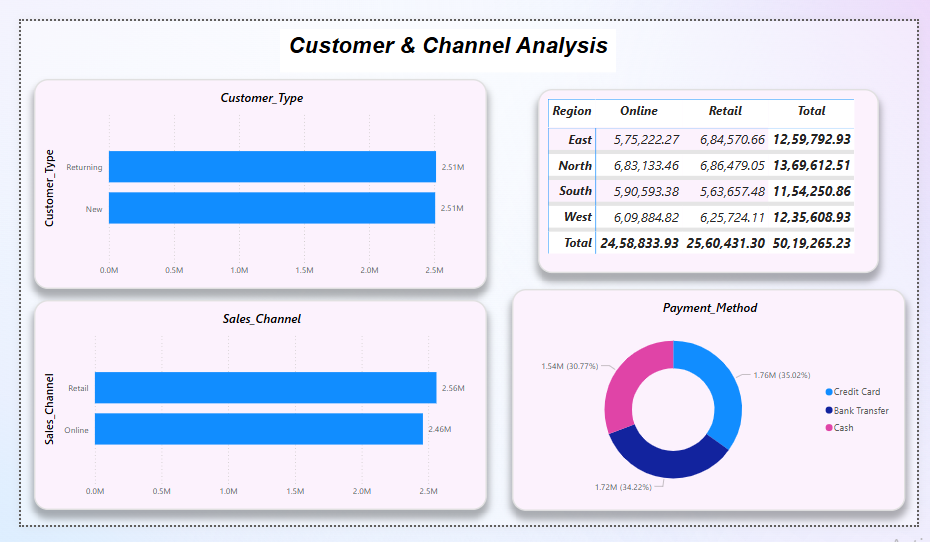

The dashboard page shown, as its layout file describes it:
{"tool":"powerbi","page":{"name":"Customer & Channel Analysis","canvas":[1280,720],"ordinal":1},"visuals":[{"type":"textbox","box":[370.2,11,480.3,61.9],"z":0},{"type":"barChart","title":"Customer_Type","fields":{"Y":["Sum(Sheet1.Sales_Amount)"],"Category":["Sheet1.Customer_Type"]},"box":[19.3,82.6,646.9,300],"z":1000},{"type":"barChart","title":"Sales_Channel","fields":{"Category":["Sheet1.Sales_Channel"],"Y":["Sum(Sheet1.Sales_Amount)"]},"box":[19.3,399.1,646.9,300],"z":2000},{"type":"donutChart","title":"Payment_Method","fields":{"Category":["Sheet1.Payment_Method"],"Y":["Sum(Sheet1.Sales_Amount)"]},"box":[701.9,382.6,561.5,316.6],"z":3000},{"type":"pivotTable","fields":{"Rows":["Sheet1.Region"],"Columns":["Sheet1.Sales_Channel"],"Values":["Sum(Sheet1.Sales_Amount)"]},"box":[739.1,97.7,487.2,262.9],"z":4000}]}

Visuals, with their boxes on the page's 1280x720 design canvas (x1, y1, x2, y2). These are canvas units, not pixel positions in the 930x542 screenshot, which may show the page scaled, cropped or inside an application window:
textbox: 370:11:850:73
"Customer_Type" barChart: 19:83:666:383
"Sales_Channel" barChart: 19:399:666:699
"Payment_Method" donutChart: 702:383:1263:699
pivotTable - Sheet1.Region x Sheet1.Sales_Channel: 739:98:1226:361
